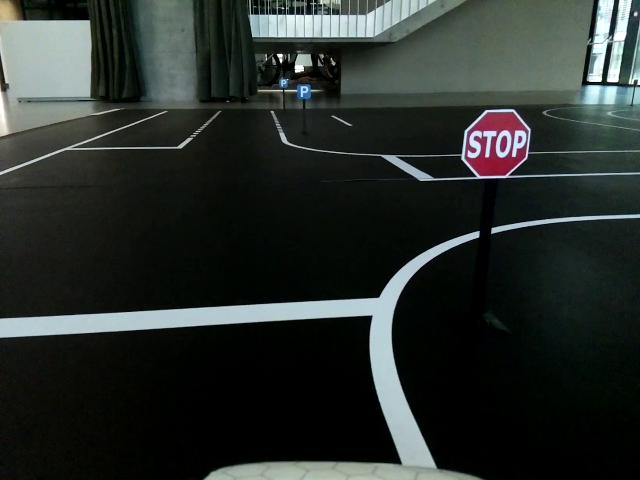stop: (461, 107, 529, 179)
